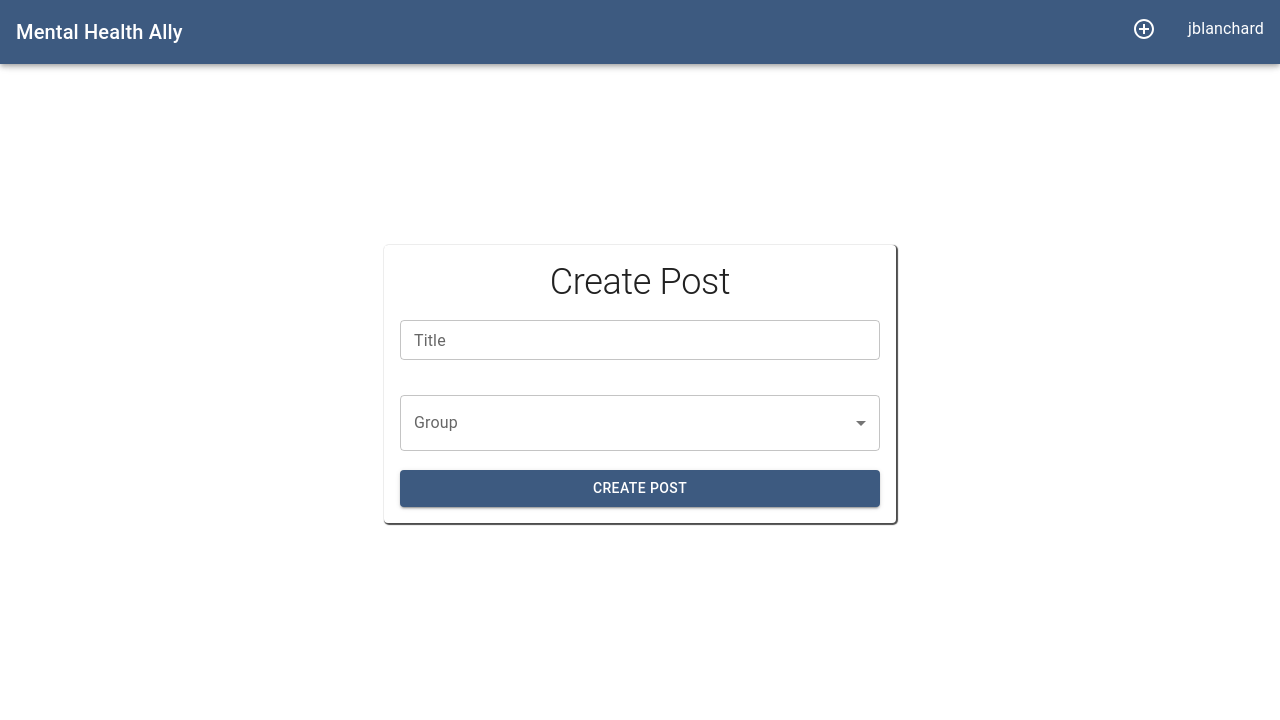
Create Post Page › Submitting form without values provides error text for user for each field
Click the button "Create Post". click: (640, 489)
box: [400,470,880,507]
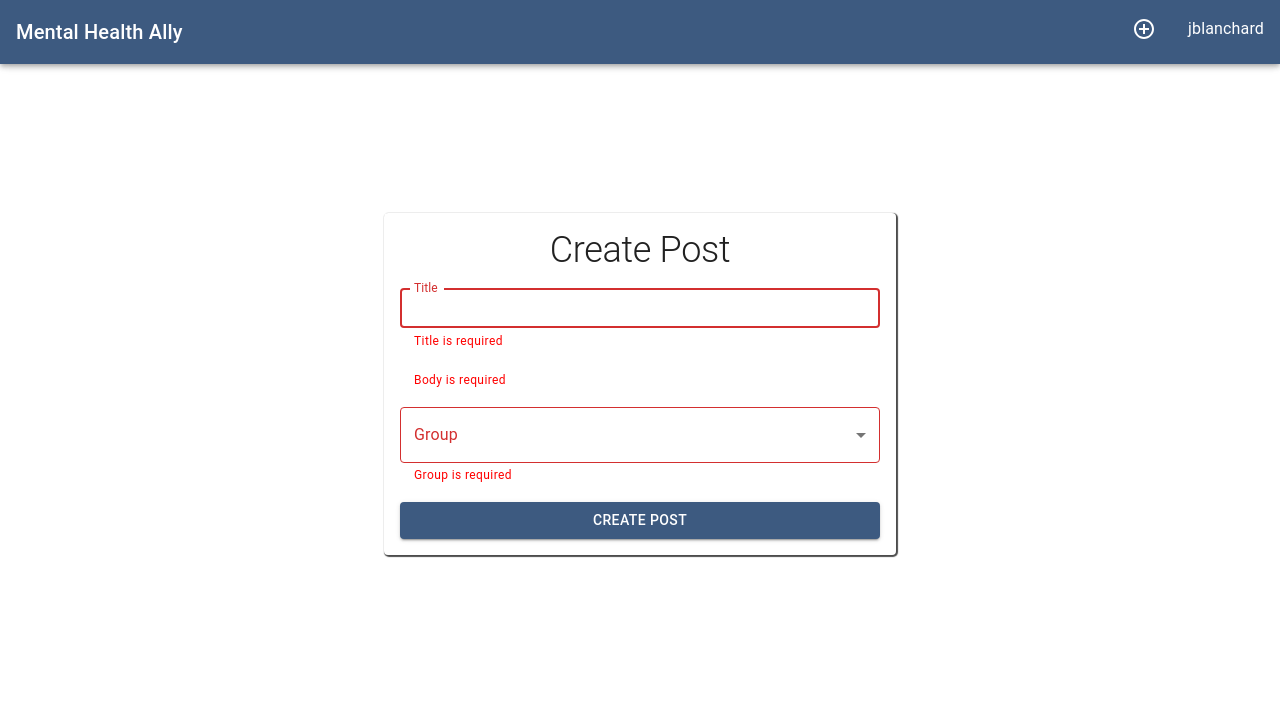
Check: the message "Title is required" is shown, box [414,334,503,348]
Check: the message "Body is required" is shown, box [414,373,506,387]
Check: the message "Group is required" is shown, box [414,468,512,482]
